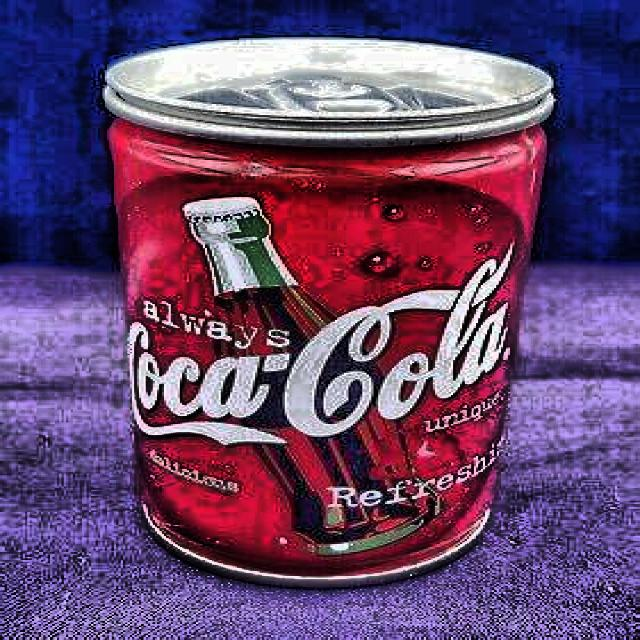Cans: (77, 15, 543, 593)
